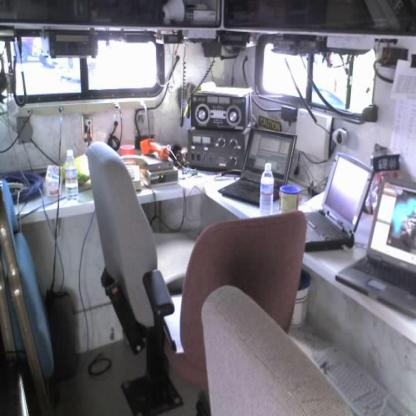board: (335, 176, 416, 319), (282, 148, 374, 251), (216, 128, 298, 206), (62, 147, 80, 210), (260, 162, 275, 217)
